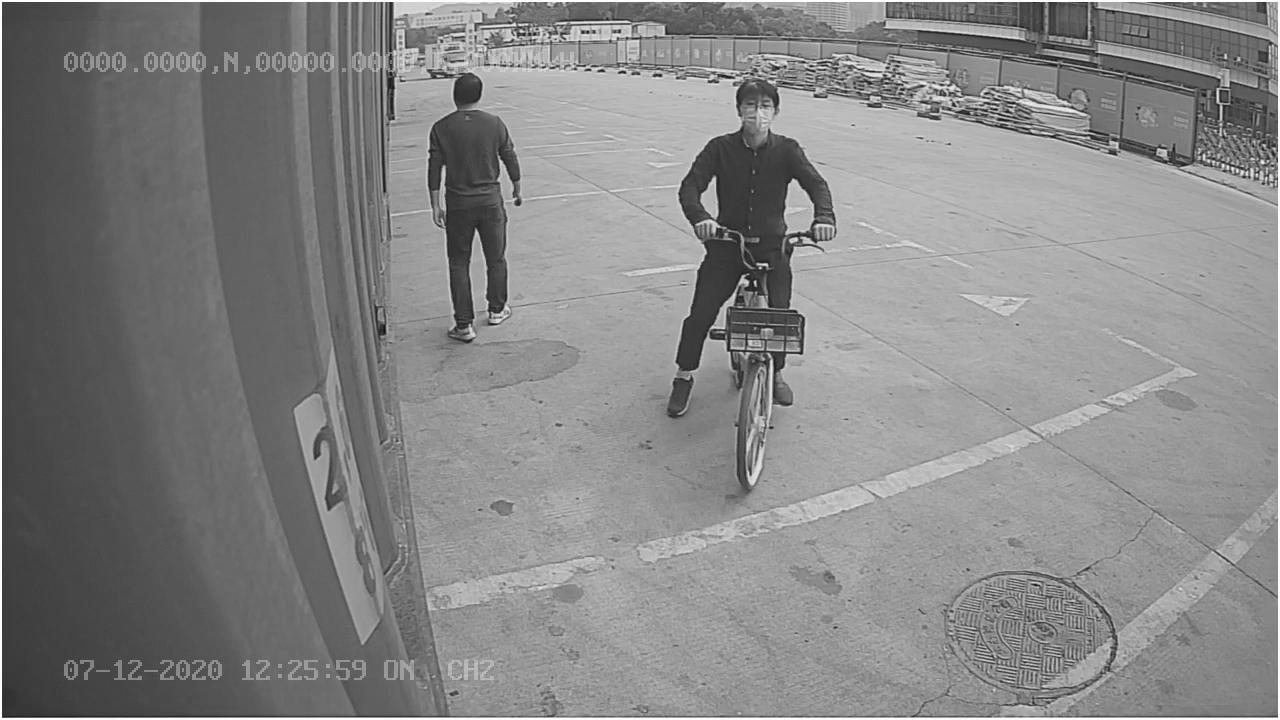person: (423, 71, 525, 347)
